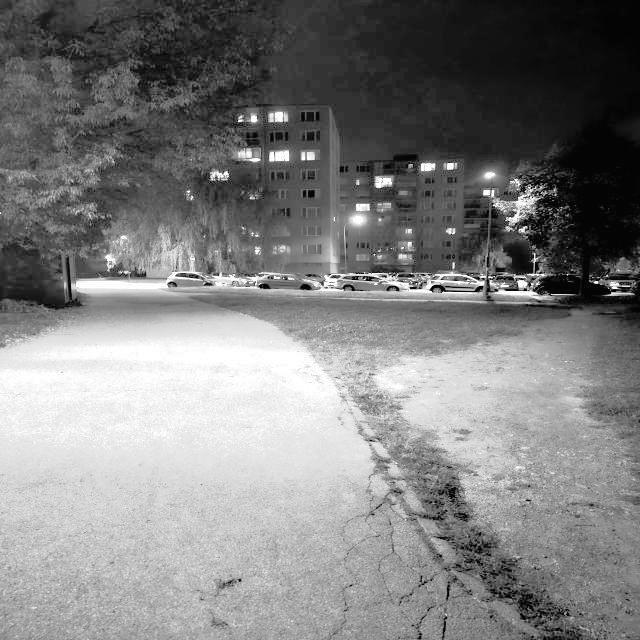Light: (483, 168, 500, 300), (342, 214, 363, 272), (104, 252, 115, 281)
